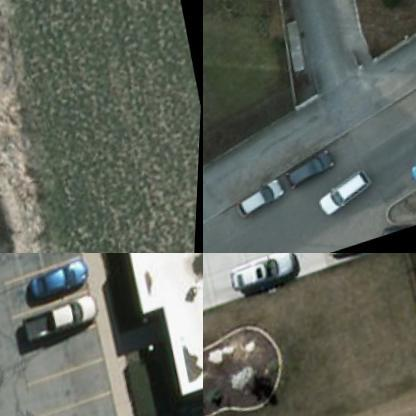car: (218, 253, 307, 302), (316, 174, 384, 233), (27, 260, 93, 306), (284, 149, 340, 203), (232, 182, 290, 226), (318, 253, 398, 269), (381, 217, 415, 242)
pickup: (20, 298, 101, 346)
